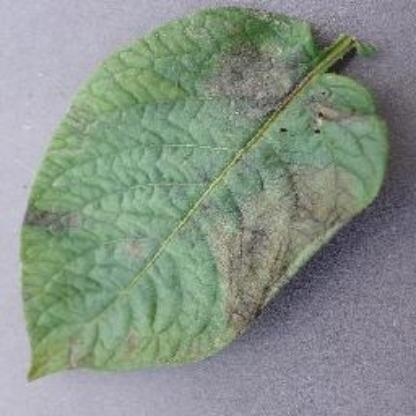Late-Blight: (16, 6, 392, 396)
